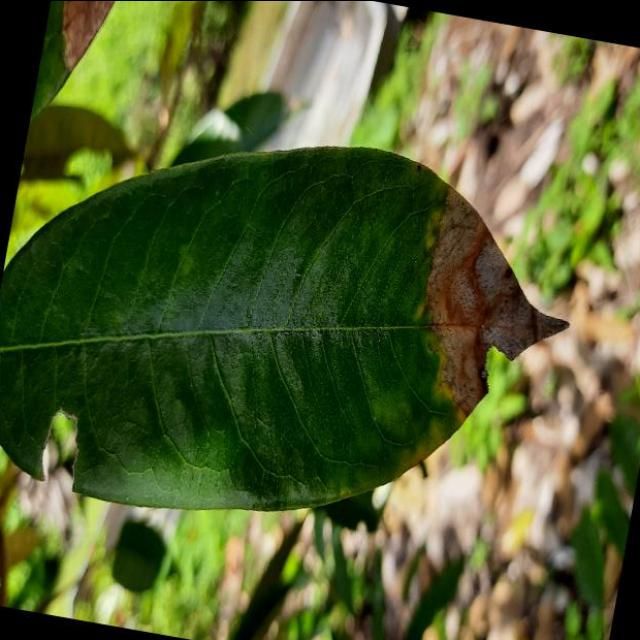Leaf Blight: (0, 80, 604, 586)
